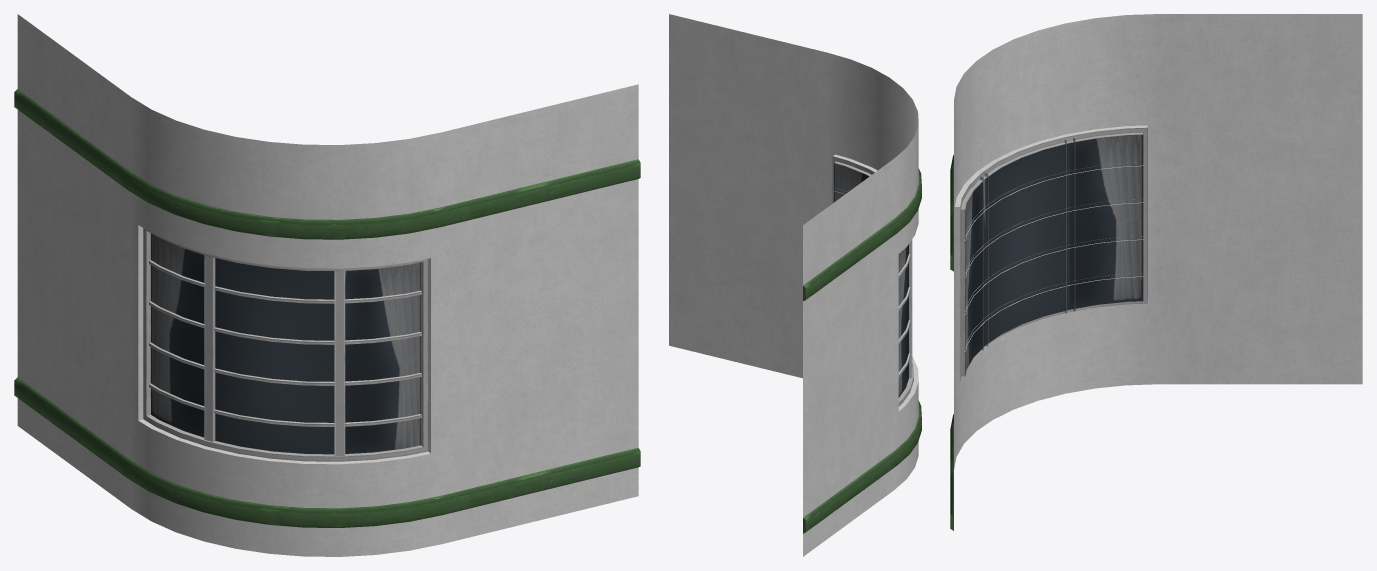
Rendered from MB_Wall_Window_C_01.fbx.
3 renders of one model, left to right at view 1: azimuth 30°, elevation 25°; view 2: azimuth 150°, elevation 25°; view 3: azimuth 270°, elevation 25°, orthographic. The views are drawn at different scales.
Parts seen in each view (by area): view 1: MB_Wall_Window_C_01_LOD0; view 2: MB_Wall_Window_C_01_LOD0; view 3: MB_Wall_Window_C_01_LOD0.
Part boxes in pixels (left/top/right/bottom): MB_Wall_Window_C_01_LOD0: left=14, top=14, right=640, bottom=556; MB_Wall_Window_C_01_LOD0: left=669, top=14, right=921, bottom=556; MB_Wall_Window_C_01_LOD0: left=950, top=14, right=1362, bottom=530.
Size of what is drawn, in the model's own units: 403 by 400 by 403.
